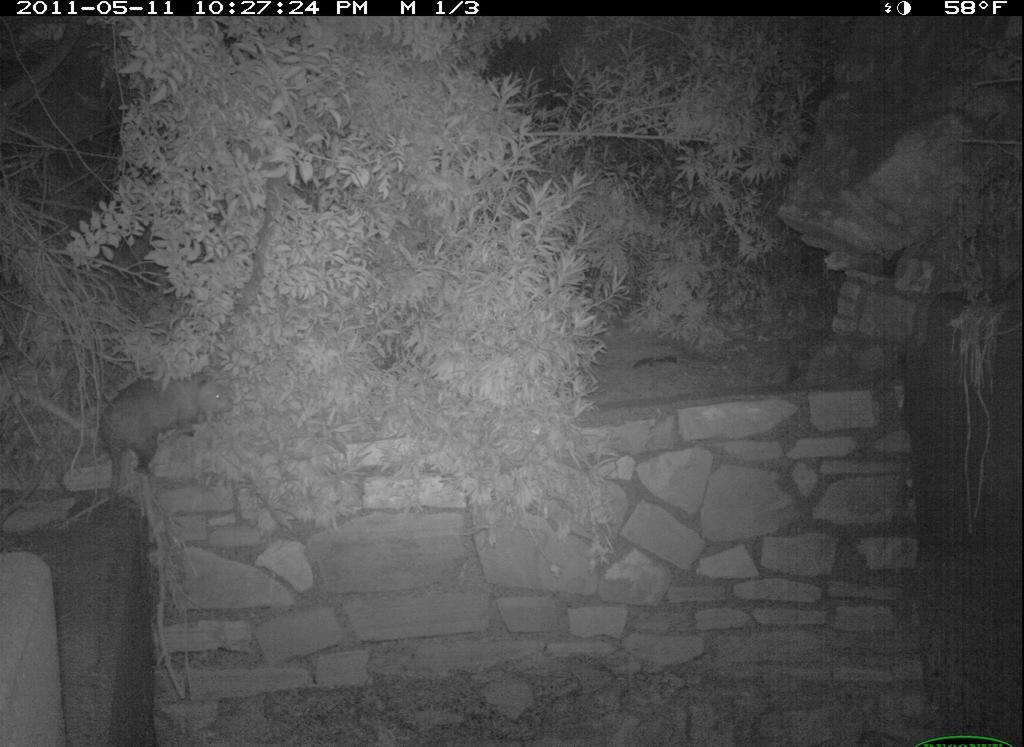opossum: (90, 360, 239, 515)
